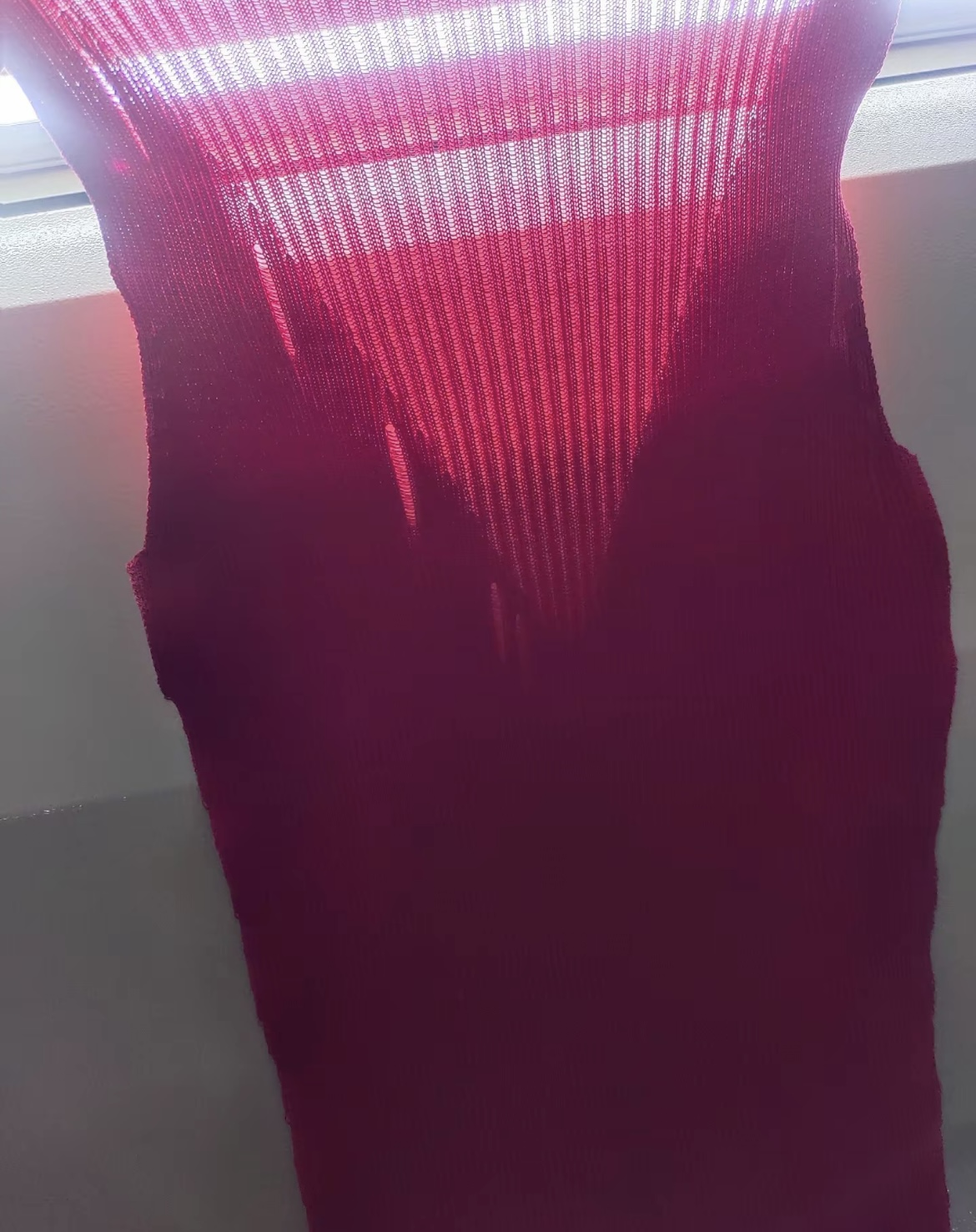missing_stitch_2: (246, 226, 313, 361), (376, 411, 423, 534), (96, 62, 152, 149), (483, 570, 517, 681)
